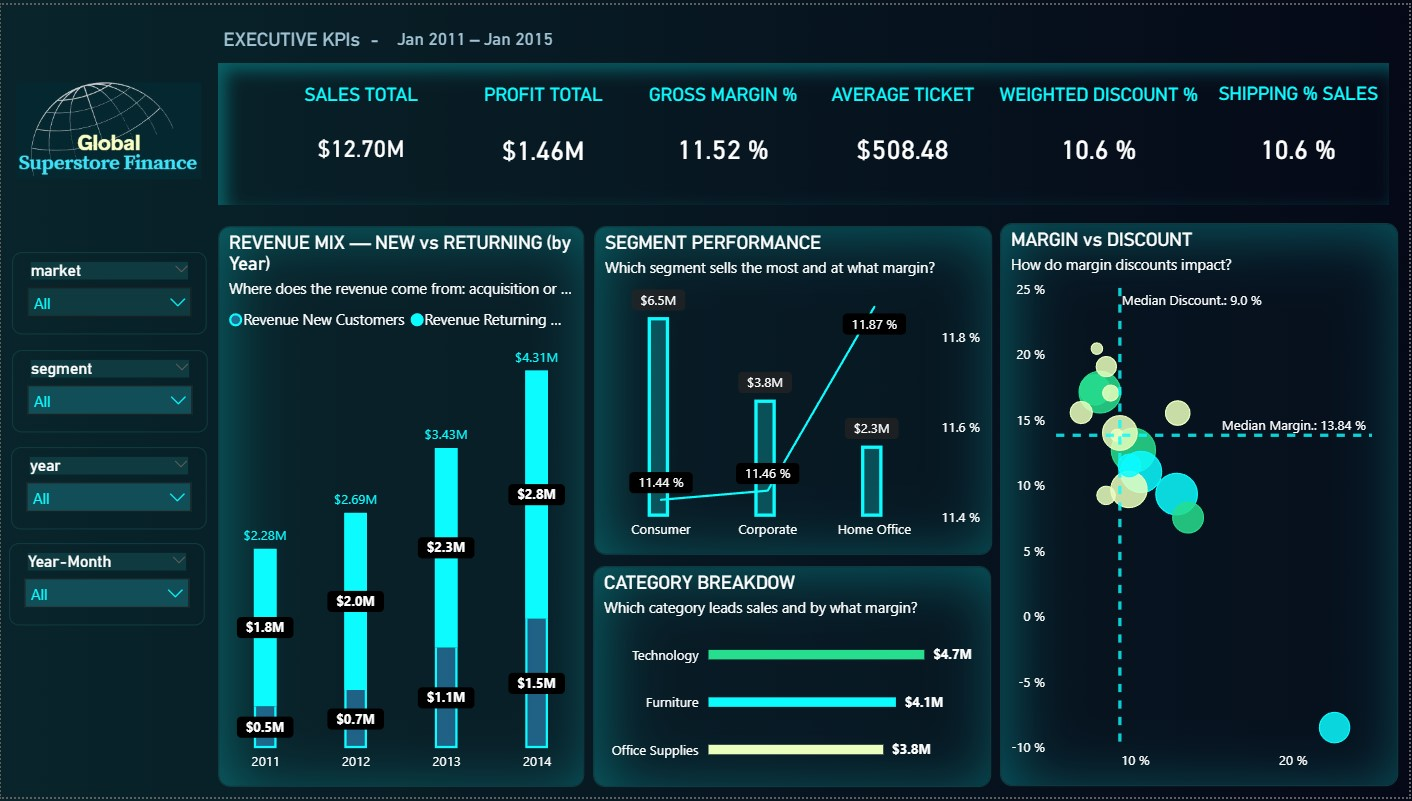

What the dashboard file says about the page in this screenshot:
{"tool":"powerbi","page":{"name":"01 Financial Overview","canvas":[1280,720],"ordinal":0},"visuals":[{"type":"shape","box":[197.5,52.4,1065.3,129],"z":0},{"type":"card","title":"SALES TOTAL","fields":{"Values":["_Measures.Sales Total"]},"box":[243.8,71.2,167.5,100],"z":1000},{"type":"slicer","fields":{"Values":["Dim Customer.segment"]},"box":[9.7,313.8,177.7,75],"z":1000,"group":"g1"},{"type":"slicer","fields":{"Values":["Dim Geo.market"]},"box":[10.1,224.8,177.3,75.5],"z":2000,"group":"g1"},{"type":"card","title":"PROFIT TOTAL","fields":{"Values":["_Measures.Profit Total"]},"box":[411.8,71.2,162.5,102.5],"z":2000},{"type":"card","title":"GROSS MARGIN %","fields":{"Values":["_Measures.Gross Margin %"]},"box":[574.8,71.2,163.8,100],"z":3000},{"type":"slicer","fields":{"Values":["Dim Date.year"]},"box":[8.9,402.5,177.7,75.4],"z":3000,"group":"g1"},{"type":"card","title":"AVERAGE TICKET","fields":{"Values":["_Measures.Avg Ticket"]},"box":[739,71.2,161.2,100],"z":4000},{"type":"slicer","fields":{"Values":["Dim Date.Year-Month"]},"box":[7.1,489.5,177.7,74.6],"z":4000,"group":"g1"},{"type":"card","title":"WEIGHTED DISCOUNT %","fields":{"Values":["_Measures.Discount % Weighted"]},"box":[900.8,71.2,193.8,100],"z":5000},{"type":"card","title":"SHIPPING % SALES","fields":{"Values":["_Measures.Shipping % Sales"]},"box":[1095,70,167.5,102.5],"z":6000},{"type":"lineStackedColumnComboChart","title":"SEGMENT PERFORMANCE","fields":{"Category":["Dim Customer.segment"],"Y":["_Measures.Sales Total"],"Y2":["_Measures.Gross Margin %"]},"box":[539.2,200.6,361.8,299.3],"z":7000},{"type":"columnChart","title":"REVENUE MIX — NEW vs RETURNING (by Year)","fields":{"Category":["Dim Date.year"],"Y":["_Measures.Revenue New Customers","_Measures.Revenue Returning Customers"]},"box":[197.5,200.6,332.6,510],"z":8000},{"type":"barChart","title":"CATEGORY BREAKDOW","fields":{"Category":["Dim Product.category"],"Y":["_Measures.Sales Total"]},"box":[538.2,510,361.8,200.6],"z":9000},{"type":"group","id":"g1","title":"Group 1","box":[7.1,224.8,180.4,338.6],"z":10000},{"type":"textbox","box":[197.5,16.2,193.9,37.7],"z":11000},{"type":"card","fields":{"Values":["_Measures.Active Date Range"]},"box":[346.5,16.2,169.7,31.4],"z":12000},{"type":"scatterChart","title":"MARGIN vs DISCOUNT","fields":{"X":["_Measures.Discount % Weighted"],"Y":["_Measures.Gross Margin %"],"Category":["Dim Product.sub_category"],"Series":["Dim Product.category"],"Size":["_Measures.Sales Total"]},"box":[908.1,198.6,361.8,512],"z":13000},{"type":"image","box":[9.1,47.4,178.4,134],"z":14001}]}

Visuals, with their boxes in screenshot pixels (x1, y1, x2, y2), scaled from the page's 1280x720 canvas onto the 1412x801 screenshot:
shape: (218, 58, 1393, 202)
"SALES TOTAL" card: (269, 79, 454, 190)
slicer - Dim Customer.segment: (11, 349, 207, 433)
slicer - Dim Geo.market: (11, 250, 207, 334)
"PROFIT TOTAL" card: (454, 79, 634, 193)
"GROSS MARGIN %" card: (634, 79, 815, 190)
slicer - Dim Date.year: (10, 448, 206, 532)
"AVERAGE TICKET" card: (815, 79, 993, 190)
slicer - Dim Date.Year-Month: (8, 545, 204, 628)
"WEIGHTED DISCOUNT %" card: (994, 79, 1207, 190)
"SHIPPING % SALES" card: (1208, 78, 1393, 192)
"SEGMENT PERFORMANCE" lineStackedColumnComboChart: (595, 223, 994, 556)
"REVENUE MIX — NEW vs RETURNING (by Year)" columnChart: (218, 223, 585, 791)
"CATEGORY BREAKDOW" barChart: (594, 567, 993, 791)
"Group 1" group: (8, 250, 207, 627)
textbox: (218, 18, 432, 60)
card - _Measures.Active Date Range: (382, 18, 569, 53)
"MARGIN vs DISCOUNT" scatterChart: (1002, 221, 1401, 791)
image: (10, 53, 207, 202)
